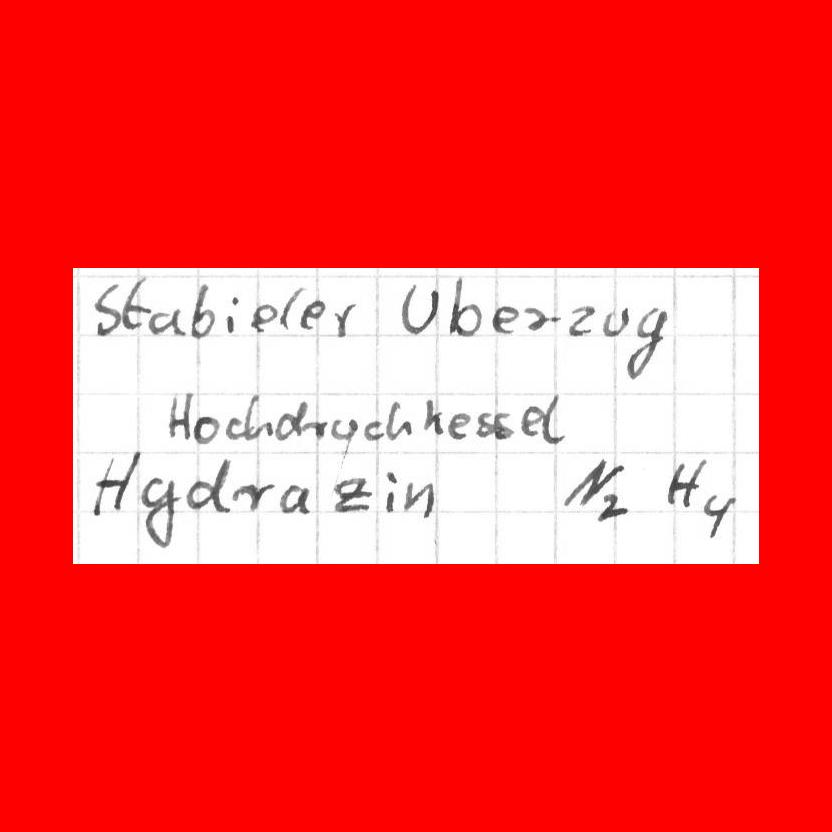Char: (562, 453, 620, 514), (90, 448, 141, 517), (141, 475, 181, 549), (625, 309, 667, 379), (664, 455, 707, 510), (186, 460, 232, 511), (446, 278, 483, 339), (398, 282, 439, 335), (121, 275, 152, 331), (702, 493, 736, 542), (93, 280, 121, 337), (243, 389, 274, 440), (188, 282, 215, 340), (332, 476, 374, 513), (540, 392, 566, 446), (166, 390, 194, 440), (276, 399, 308, 441), (401, 479, 434, 519), (232, 481, 274, 512), (384, 399, 411, 441), (147, 307, 183, 337), (279, 483, 310, 516), (490, 301, 519, 335), (567, 303, 594, 338), (601, 306, 630, 338), (523, 304, 556, 332), (278, 287, 299, 330), (421, 397, 444, 436), (299, 297, 325, 331), (332, 302, 355, 340), (248, 301, 276, 332), (193, 414, 221, 445), (598, 492, 626, 522), (520, 404, 543, 438), (382, 469, 398, 513), (329, 415, 357, 440), (493, 409, 515, 440), (225, 293, 241, 334), (448, 411, 470, 439), (223, 414, 243, 441), (362, 418, 383, 442), (475, 411, 493, 439), (310, 414, 328, 439)
